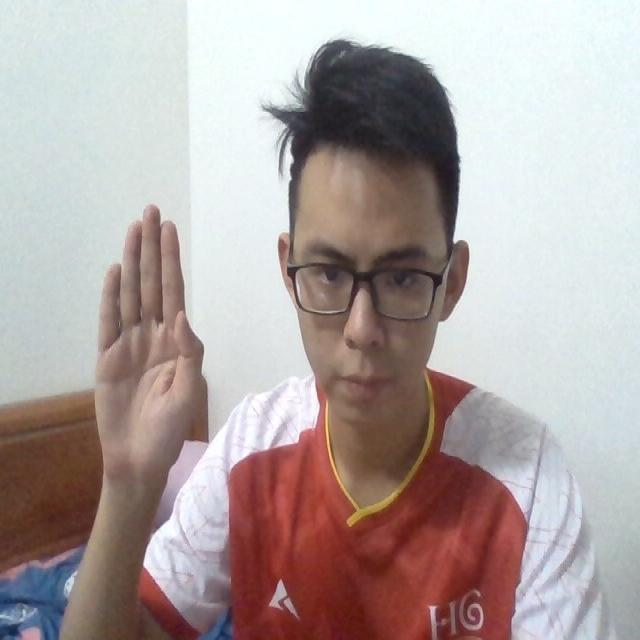B: (88, 200, 204, 468)
